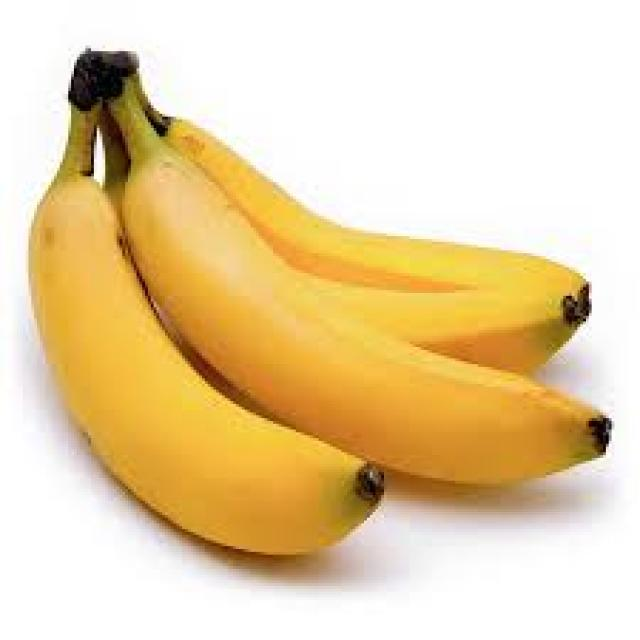Banana: (116, 178, 449, 466), (31, 189, 197, 488), (243, 175, 556, 307), (317, 269, 562, 360)
